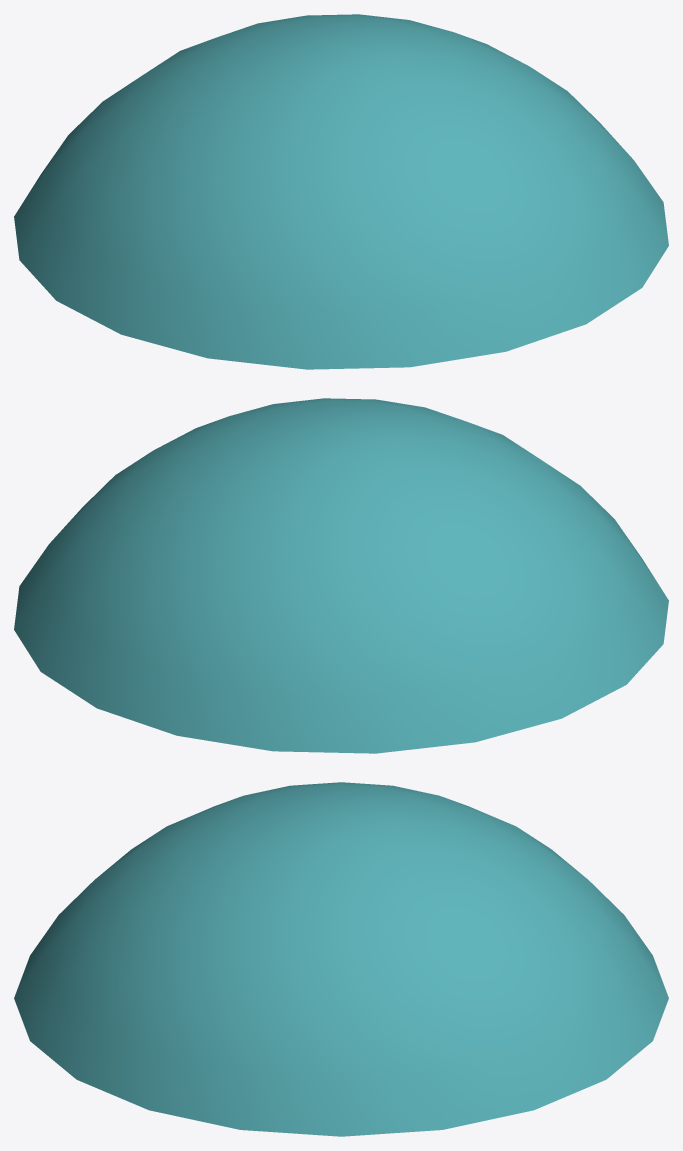
File: Dome.fbx
3 views of the same model, one above another, from view 1: azimuth 30°, elevation 25°; view 2: azimuth 150°, elevation 25°; view 3: azimuth 270°, elevation 25° (orthographic).
Visible parts, largest first — view 1: pSphere1; view 2: pSphere1; view 3: pSphere1.
Part boxes in pixels (x1,y1,x2,y2): pSphere1: (14,14,668,369); pSphere1: (14,398,668,753); pSphere1: (14,782,668,1136).
Size of the model in its own units: 1800 by 551 by 1800.
